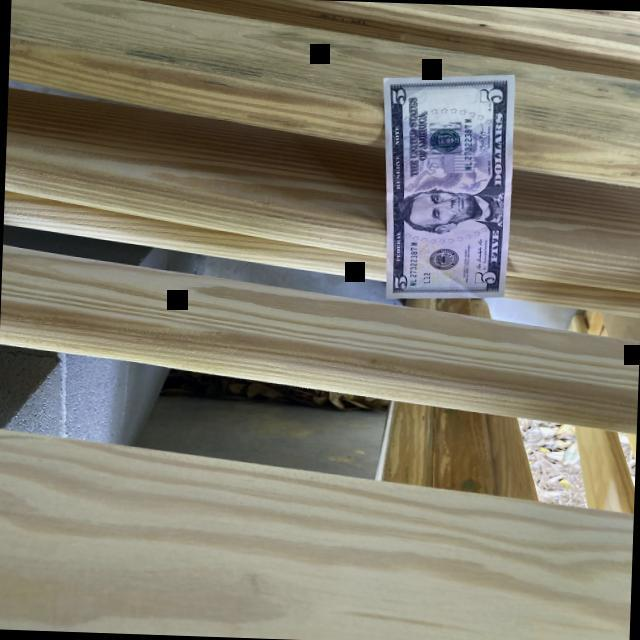five: (382, 74, 516, 300)
